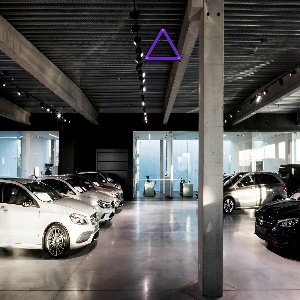triangle: (142, 24, 184, 65)
